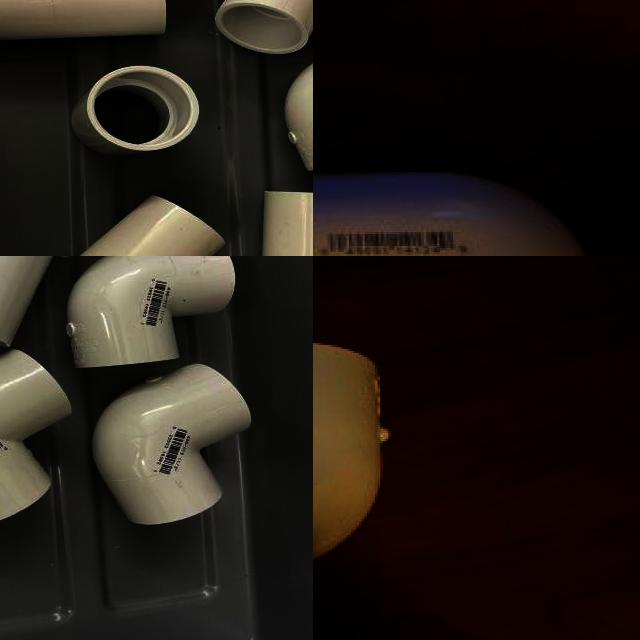L Joint: (91, 364, 251, 528), (313, 171, 588, 256), (69, 256, 238, 373), (313, 342, 391, 563)
T Joint: (0, 350, 74, 524), (79, 195, 226, 256)
